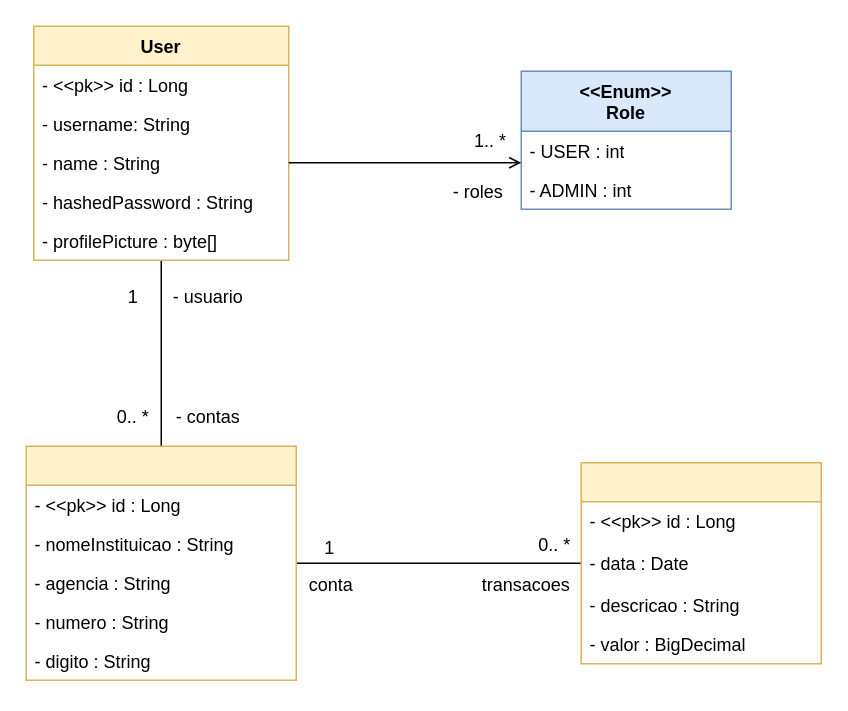
Image size: 848x711. Some labels were removed from this diagram. The shapes that lost their labels are listed below. From the top down, each one's box as (x1, y1, x2, y2) in pixels, then its label:
(25, 445, 296, 680): ContaBancaria
(580, 461, 821, 664): Transacao
